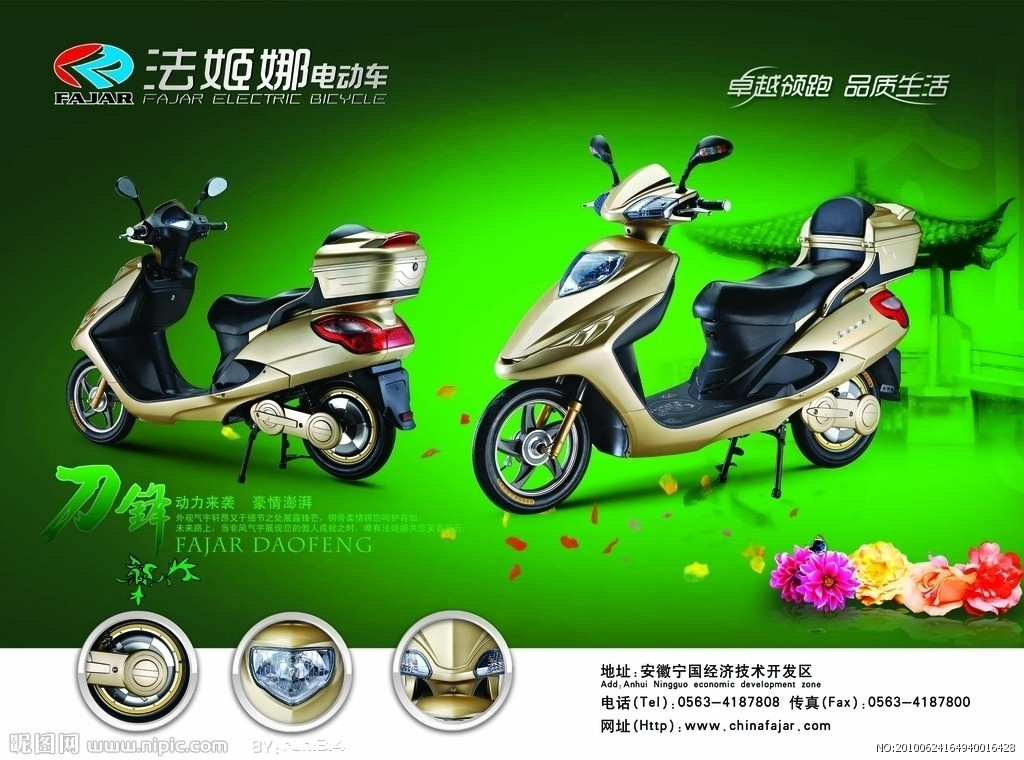non-vehicle: (466, 160, 920, 518), (66, 194, 424, 493)
